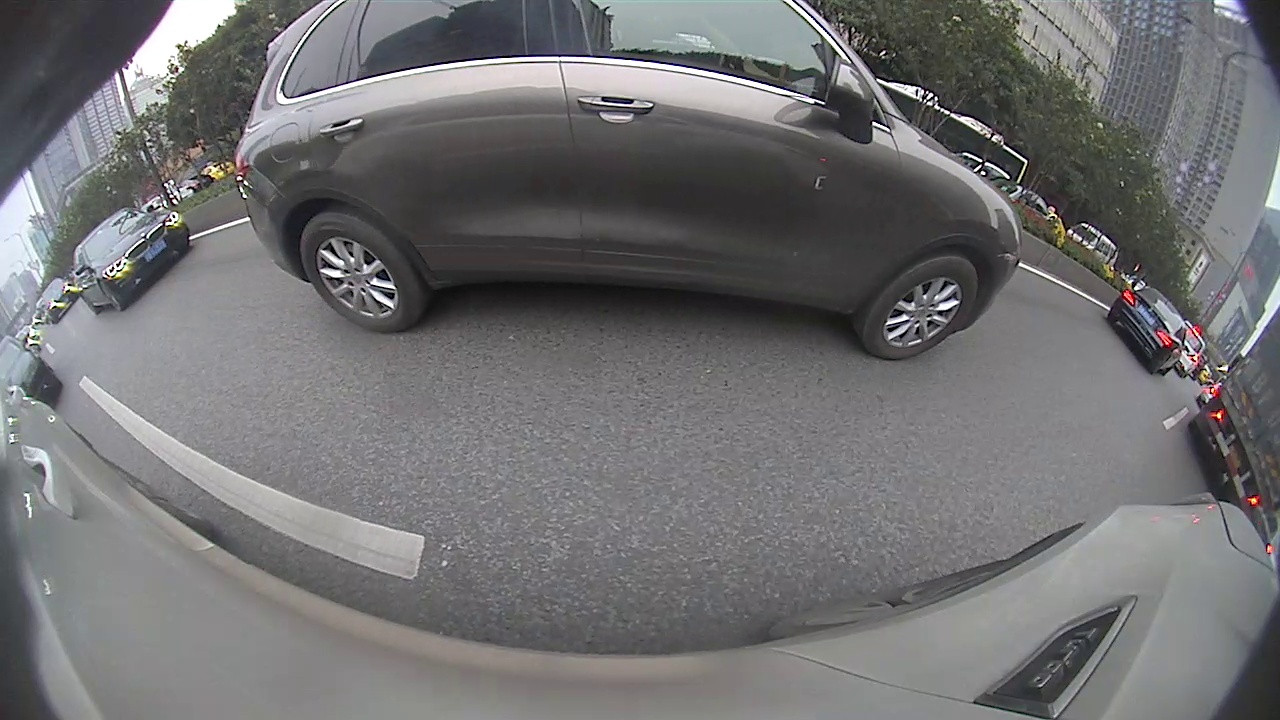car: (237, 3, 1020, 359), (71, 207, 191, 314), (1104, 283, 1185, 377)
front: (858, 258, 980, 357)
rear: (296, 218, 418, 332)
